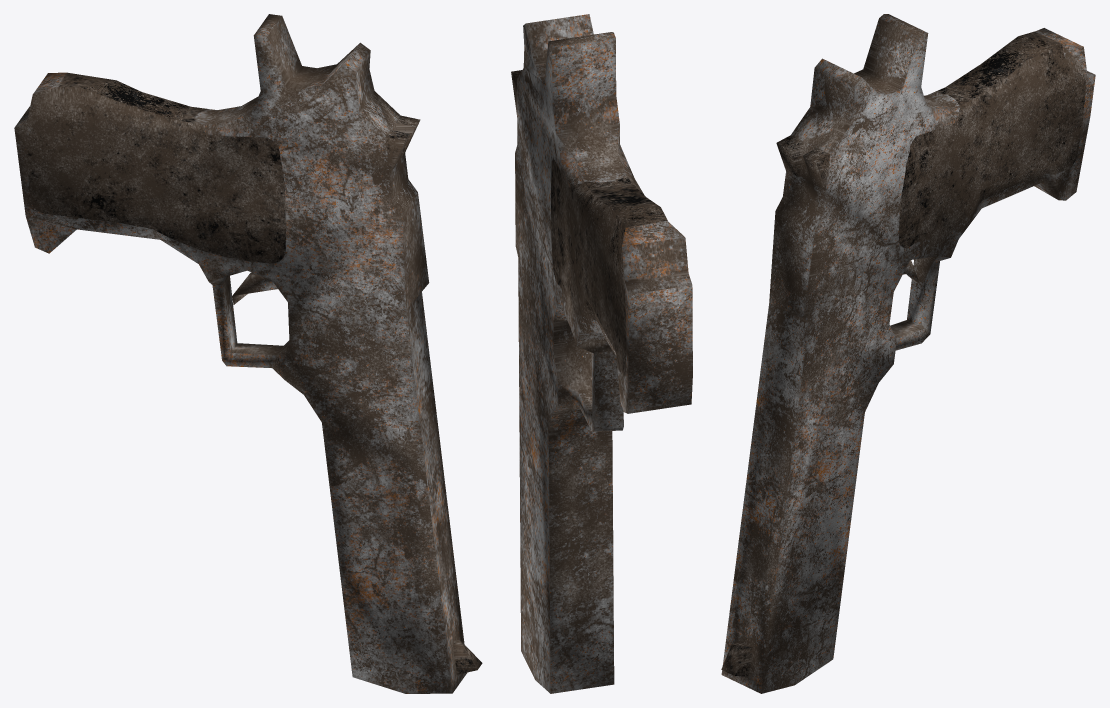
The model's file is Anim_idle_pistola_objetos.0029.obj.
The picture shows the model from 3 angles, left to right: view 1: azimuth 30°, elevation 25°; view 2: azimuth 150°, elevation 25°; view 3: azimuth 270°, elevation 25°; orthographic projection. The views are drawn at different scales.
Parts seen in each view (by area): view 1: Pistola1; view 2: Pistola1; view 3: Pistola1.
Part boxes in pixels (x1,y1,x2,y2): Pistola1: (14,14,482,693); Pistola1: (511,14,692,693); Pistola1: (721,14,1095,693).
Size of the model in its own units: 0.8409 by 1.68 by 0.9226.
